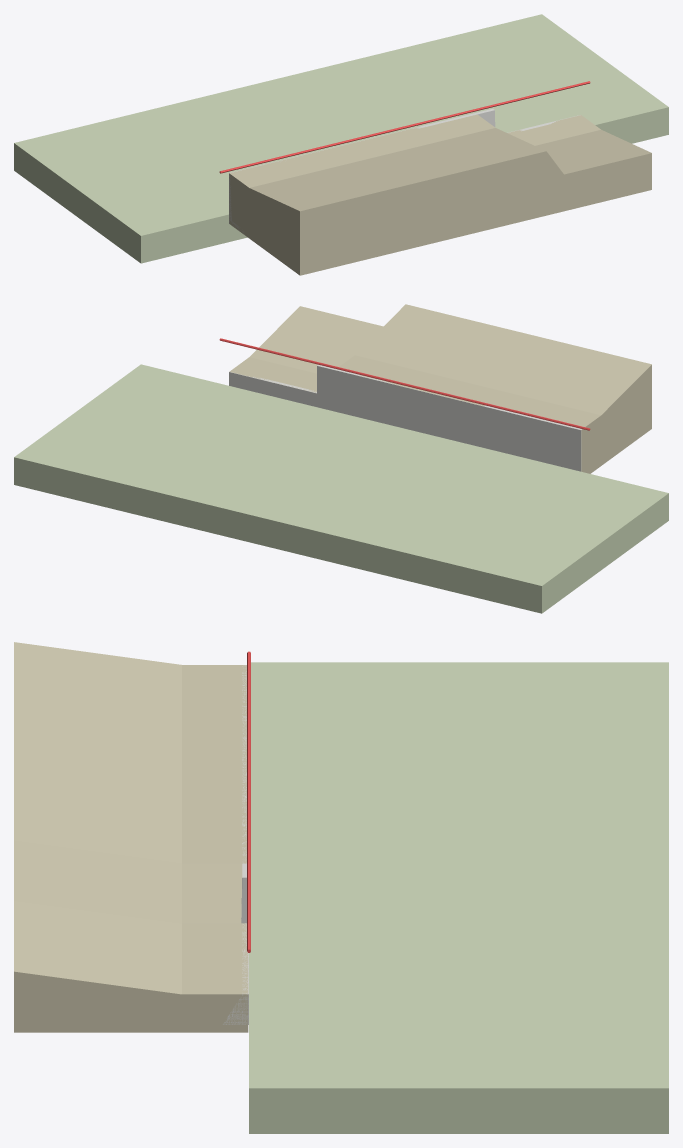
The picture shows the model from 3 angles, top to bottom: view 1: azimuth 30°, elevation 25°; view 2: azimuth 150°, elevation 25°; view 3: azimuth 270°, elevation 25°; orthographic projection. The views are drawn at different scales.
Visible parts, largest first — view 1: 地形|前面地盤 (参考), 土工|背面盛土 (参考), 線形|擁壁法線 (前面線), 本体|逆T式擁壁 (断面一体スイープ) L=30m; view 2: 地形|前面地盤 (参考), 土工|背面盛土 (参考), 本体|逆T式擁壁 (断面一体スイープ) L=30m, 本体|重力式擁壁 (断面一体スイープ) L=10m, 線形|擁壁法線 (前面線); view 3: 地形|前面地盤 (参考), 土工|背面盛土 (参考), 線形|擁壁法線 (前面線), 本体|逆T式擁壁 (断面一体スイープ) L=30m.
Part boxes in pixels (x1,y1,x2,y2): 地形|前面地盤 (参考): (14, 14, 668, 263); 土工|背面盛土 (参考): (229, 114, 651, 275); 線形|擁壁法線 (前面線): (219, 81, 590, 173); 本体|逆T式擁壁 (断面一体スイープ) L=30m: (229, 108, 495, 234); 地形|前面地盤 (参考): (14, 364, 668, 613); 土工|背面盛土 (参考): (229, 304, 651, 473); 本体|逆T式擁壁 (断面一体スイープ) L=30m: (317, 364, 581, 471); 本体|重力式擁壁 (断面一体スイープ) L=10m: (229, 372, 316, 406); 線形|擁壁法線 (前面線): (219, 338, 590, 430); 地形|前面地盤 (参考): (249, 662, 668, 1133); 土工|背面盛土 (参考): (14, 642, 248, 1032); 線形|擁壁法線 (前面線): (247, 651, 250, 952); 本体|逆T式擁壁 (断面一体スイープ) L=30m: (241, 665, 246, 923).
Bounding box in the file's own units: 60 × 9 × 39.
